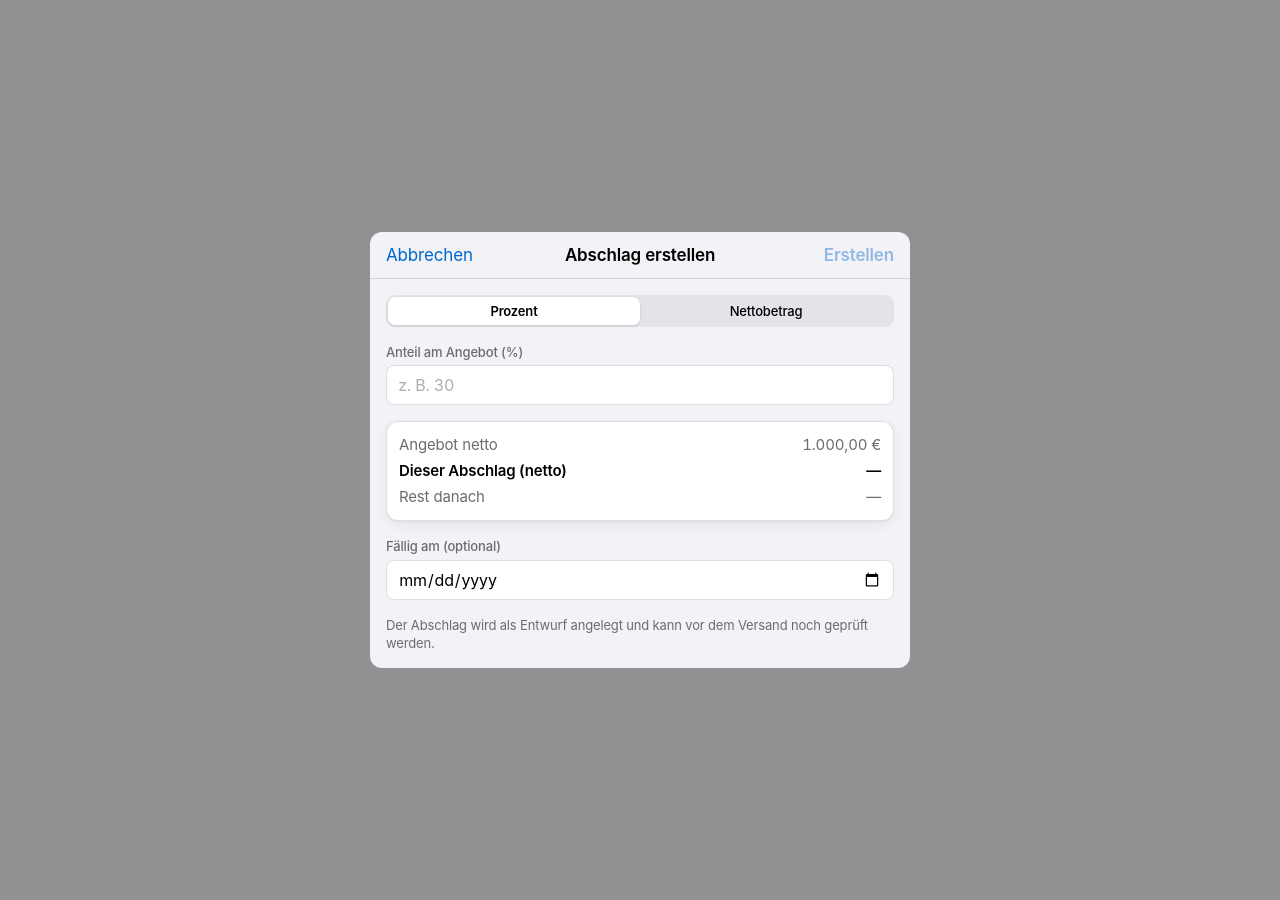
Scenario: AbschlagSheet › sperrt den Button, solange die Anfrage läuft
Type "10" into the field labelled "Anteil am Angebot (%)" at (640, 385), box [386,365,894,405]
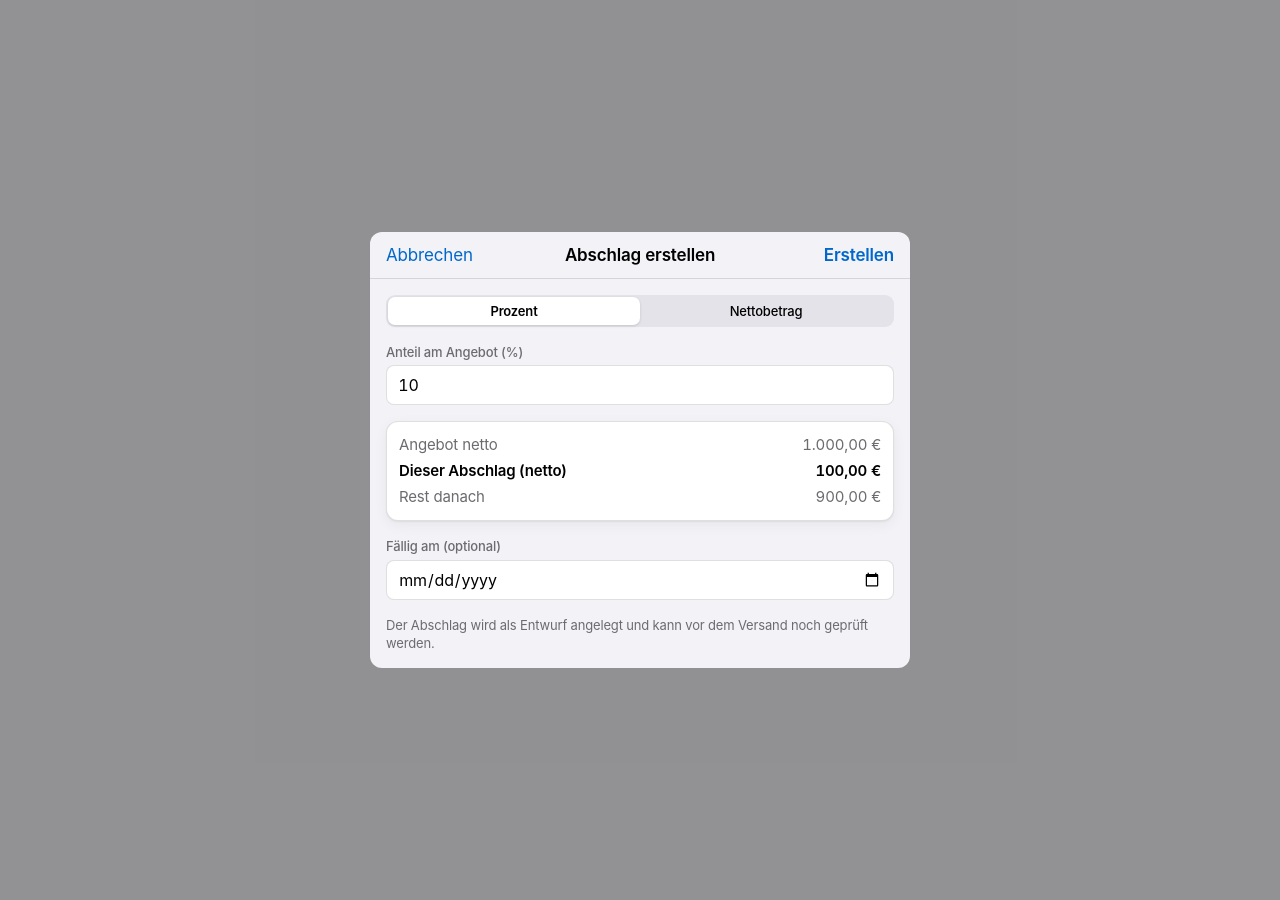
Click the button "Erstellen" at (859, 255), box [824,244,894,266]
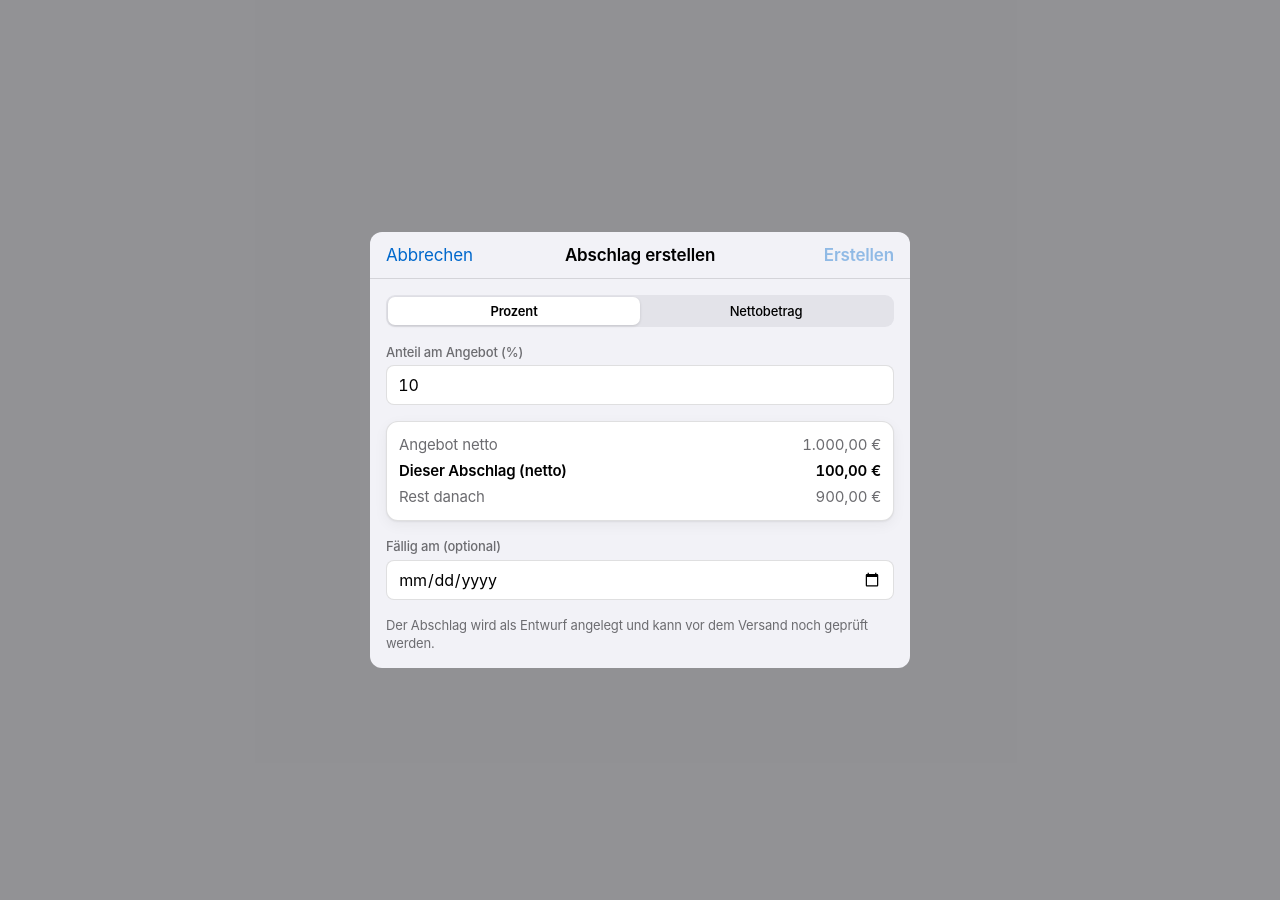
Check: the button "Erstellen" is disabled, box [824,244,894,266]
